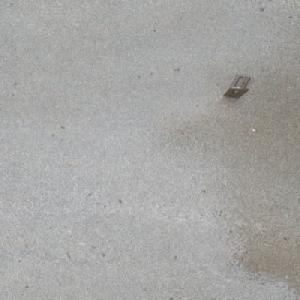MetalPart: (222, 73, 252, 98)
